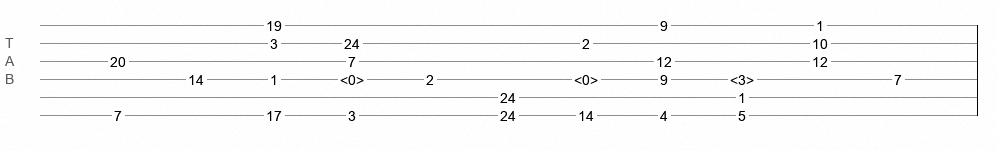1: (270, 72, 278, 82), (738, 90, 746, 100), (816, 18, 824, 28)
10: (812, 36, 828, 46)
12: (656, 54, 672, 64), (812, 54, 828, 64)
14: (188, 72, 204, 82), (578, 108, 594, 118)
17: (266, 108, 282, 118)
19: (266, 18, 282, 28)
2: (426, 72, 434, 82), (582, 36, 590, 46)
20: (110, 54, 126, 64)
24: (344, 36, 360, 46), (500, 90, 516, 100), (500, 108, 516, 118)
3: (270, 36, 278, 46), (348, 108, 356, 118)
4: (660, 108, 668, 118)
5: (738, 108, 746, 118)
7: (114, 108, 122, 118), (348, 54, 356, 64), (894, 72, 902, 82)
9: (660, 18, 668, 28), (660, 72, 668, 82)
harmonic: (340, 72, 364, 82), (574, 72, 598, 82), (730, 72, 754, 82)
